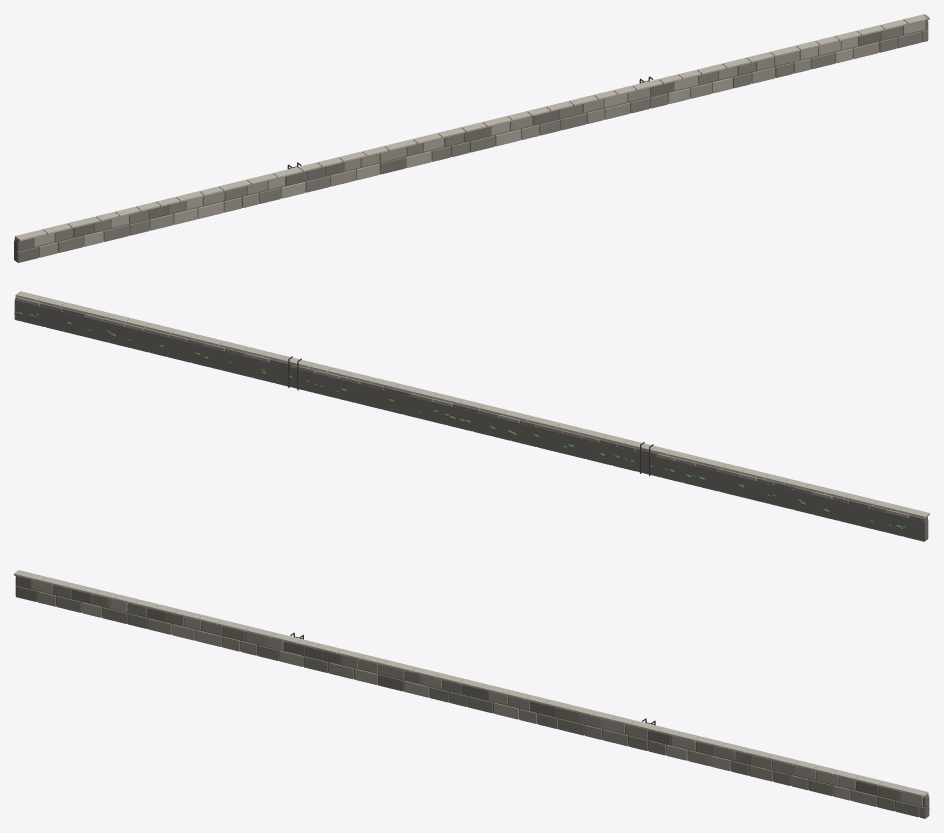
File: quay.glb
3 views of the same model, one above another, from view 1: azimuth 30°, elevation 25°; view 2: azimuth 150°, elevation 25°; view 3: azimuth 330°, elevation 25° (orthographic).
Visible parts, largest first — view 1: Quay_cap, Quay_g1, Quay_g2, Quay_g4, Quay_g3; view 2: Quay_g3, Quay_cap, Quay_g1, Quay_g4, Quay_g2, Quay_weed; view 3: Quay_cap, Quay_g1, Quay_g2, Quay_g4, Quay_g3.
Boxes of the visible parts, x1,y1,x2,y2 form: Quay_cap: (15,14,929,241); Quay_g1: (55,19,927,252); Quay_g2: (39,42,878,257); Quay_g4: (33,21,925,246); Quay_g3: (14,21,928,262); Quay_g3: (14,300,928,541); Quay_cap: (15,291,929,518); Quay_g1: (15,296,888,531); Quay_g4: (18,297,909,525); Quay_g2: (64,328,902,536); Quay_weed: (14,312,905,529); Quay_cap: (14,570,928,797); Quay_g1: (53,585,928,818); Quay_g2: (37,591,876,806); Quay_g4: (32,580,923,806); Quay_g3: (15,576,929,817).
Bounding box in the file's own units: 44.01 × 1.34 × 0.5487.
